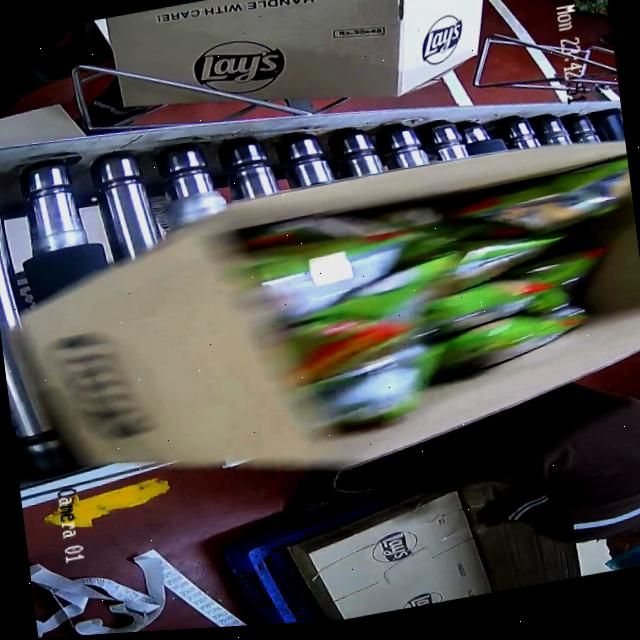YOGURT_HERB: (267, 163, 626, 422)
